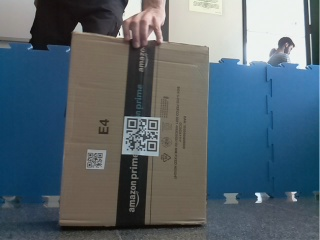caja: (72, 31, 205, 226)
